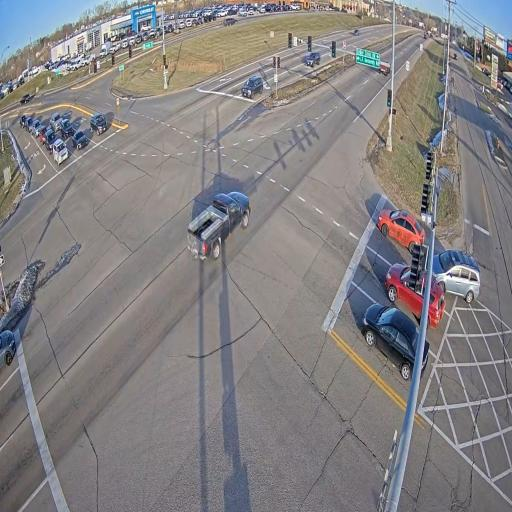pickup: (188, 191, 251, 259), (50, 112, 63, 131), (379, 61, 390, 75), (31, 119, 40, 136), (39, 125, 46, 144)
sedan: (362, 303, 419, 380), (377, 210, 425, 253), (0, 329, 16, 366), (72, 131, 88, 150), (420, 341, 429, 374), (453, 53, 457, 59)
suv: (433, 249, 481, 303), (385, 263, 423, 320), (427, 277, 445, 328), (241, 75, 263, 98), (52, 138, 69, 165), (90, 113, 108, 137), (45, 128, 58, 154), (60, 119, 74, 140), (305, 52, 321, 67), (25, 117, 33, 131), (224, 18, 237, 26), (20, 94, 30, 104), (19, 115, 26, 127), (353, 28, 359, 35)
